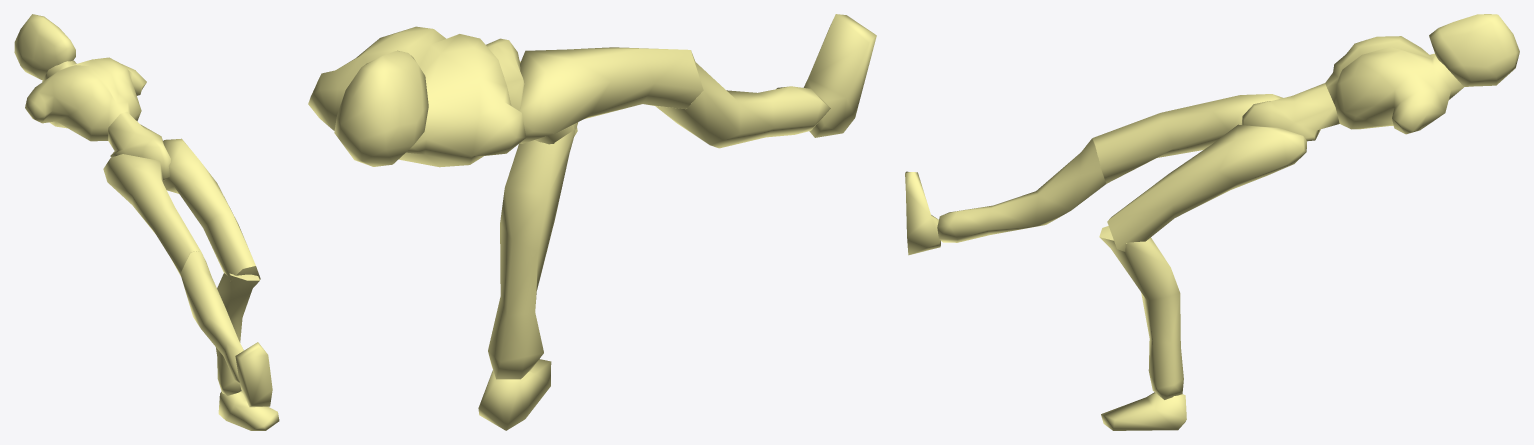
File: filth10.obj
The picture shows the model from 3 angles, left to right: view 1: azimuth 30°, elevation 25°; view 2: azimuth 150°, elevation 25°; view 3: azimuth 270°, elevation 25°; orthographic projection. The views are drawn at different scales.
Parts seen in each view (by area): view 1: Melee_Husk; view 2: Melee_Husk; view 3: Melee_Husk.
Boxes of the visible parts, left/top/right/bottom form: Melee_Husk: left=14, top=14, right=279, bottom=430; Melee_Husk: left=308, top=14, right=876, bottom=430; Melee_Husk: left=905, top=14, right=1519, bottom=430.
Bounding box in the file's own units: 22.88 × 53.34 × 78.69.
